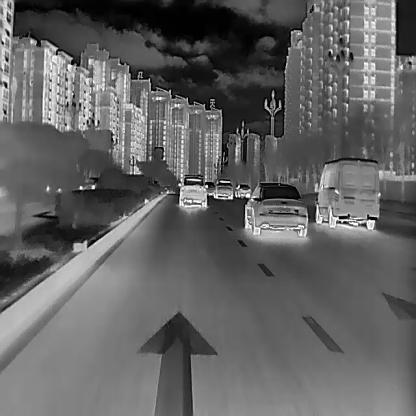car: (312, 157, 378, 229), (242, 181, 307, 236), (177, 172, 207, 207), (212, 176, 233, 199), (233, 183, 251, 197), (204, 180, 215, 194)
